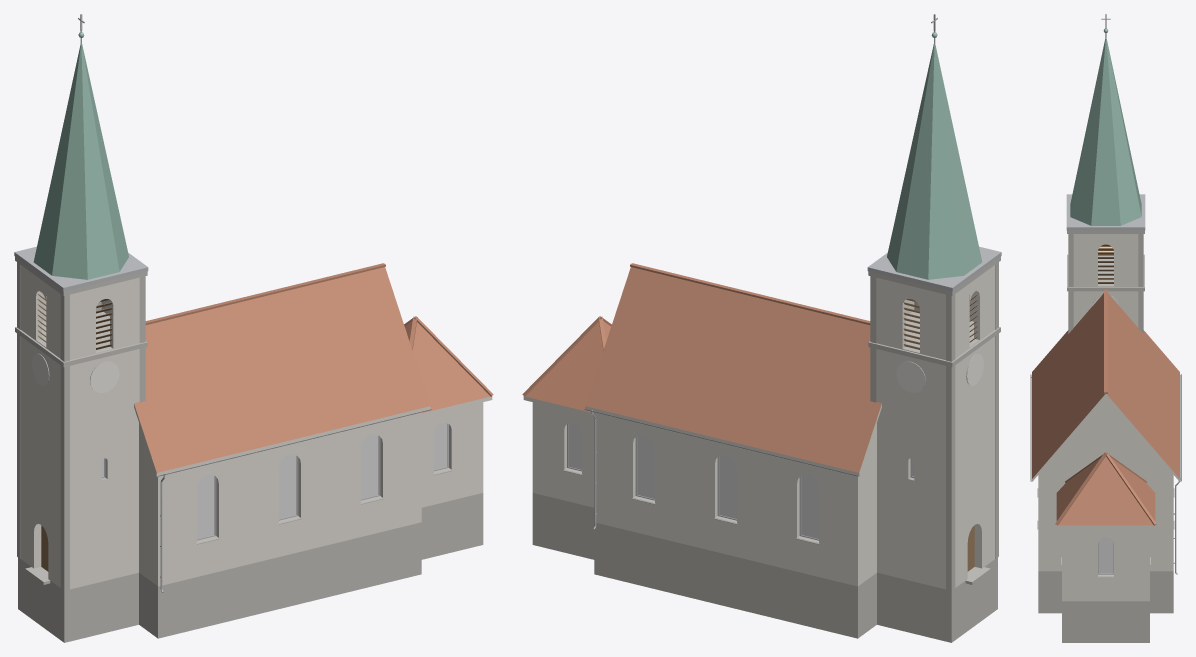
File: church_needle_m.glb
3 renders of one model, left to right at view 1: azimuth 30°, elevation 25°; view 2: azimuth 150°, elevation 25°; view 3: azimuth 270°, elevation 25°, orthographic. The views are drawn at different scales.
Parts seen in each view (by area): view 1: church_needle_m; view 2: church_needle_m; view 3: church_needle_m.
Part boxes in pixels (left/top/right/bottom): church_needle_m: left=14, top=14, right=493, bottom=642; church_needle_m: left=522, top=14, right=1001, bottom=642; church_needle_m: left=1030, top=14, right=1181, bottom=642.
Bounding box in the file's own units: 29.26 × 39.25 × 11.15.
